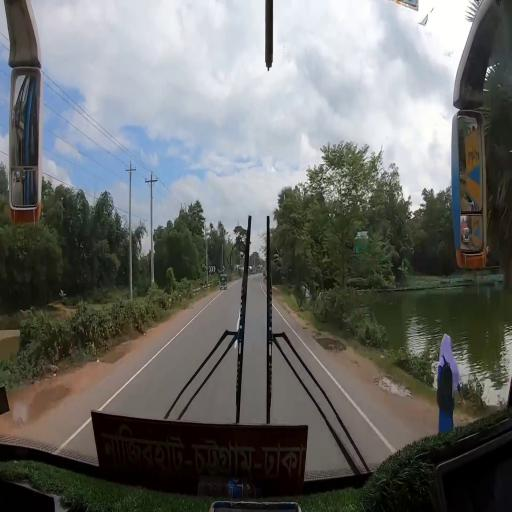three wheelers (CNG): (220, 274, 228, 290)
